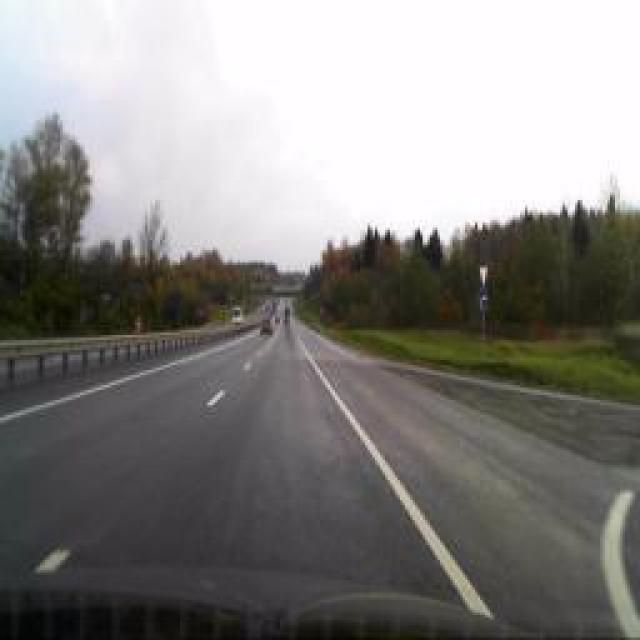sign: (479, 290, 489, 310)
